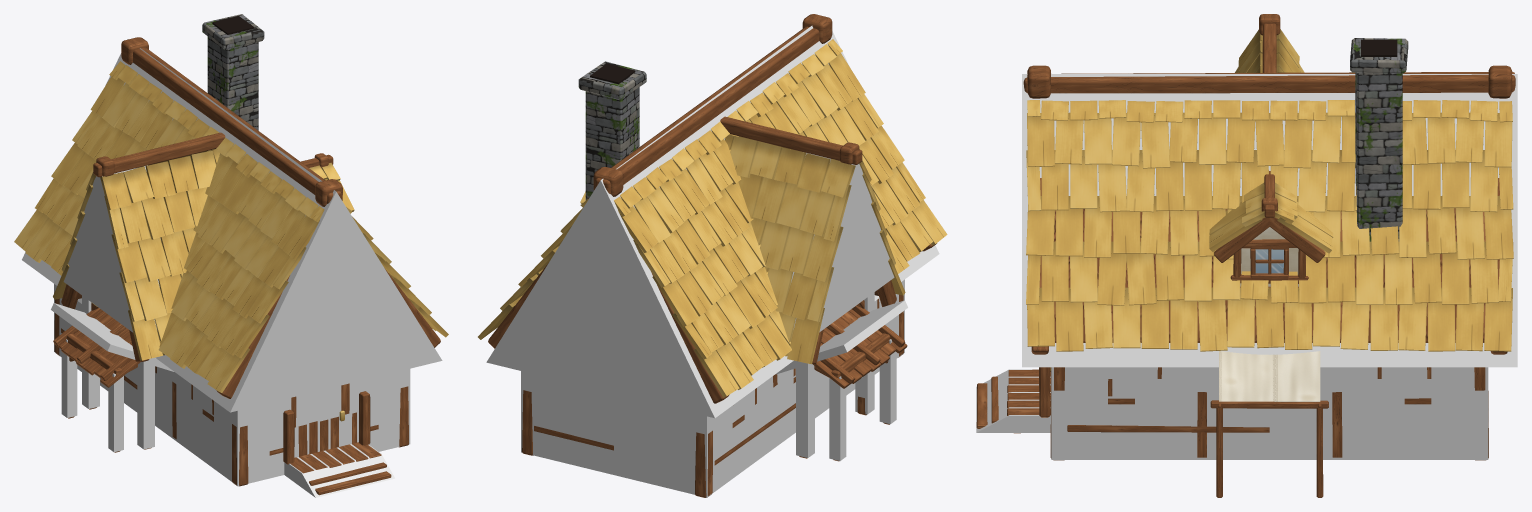
The model's file is SM_House_L.fbx.
3 views of the same model, side by side, from view 1: azimuth 30°, elevation 25°; view 2: azimuth 150°, elevation 25°; view 3: azimuth 270°, elevation 25° (orthographic). The views are drawn at different scales.
Visible parts, largest first — view 1: House_L_Roof, House_L_Col1, House_L_Col0, House_L_CrossGableRoof, House_L_Body, House_L_CrossGableCol2, House_L_Chimney, House_L_Porch, House_L_LeanTo, House_L_CrossGable, House_L_PorchCol0, House_L_LeanToCol2 (+4 smaller); view 2: House_L_Roof, House_L_Col1, House_L_Col0, House_L_CrossGableRoof, House_L_Body, House_L_CrossGableCol2, House_L_Chimney, House_L_LeanTo, House_L_CrossGable, House_L_LeanToCol2, House_L_CrossGableCol1, House_L_LeanToCol1 (+2 smaller); view 3: House_L_Roof, House_L_Col0, House_L_Col1, House_L_Body, House_L_Chimney, House_L_Awning, House_L_Dormer, House_L_DormerRoof, House_L_Porch, House_L_PorchCol0, House_L_CrossGableRoof, House_L_CrossGable.
Part boxes in pixels (box(x1,y1,x2,y2)): House_L_Roof: box(14, 61, 448, 392); House_L_Col1: box(22, 39, 442, 412); House_L_Col0: box(54, 284, 410, 486); House_L_CrossGableRoof: box(53, 149, 219, 360); House_L_Body: box(54, 37, 440, 486); House_L_CrossGableCol2: box(63, 165, 160, 332); House_L_Chimney: box(202, 14, 264, 130); House_L_Porch: box(283, 391, 391, 495); House_L_LeanTo: box(53, 307, 140, 452); House_L_CrossGable: box(61, 132, 225, 449); House_L_PorchCol0: box(284, 444, 394, 497); House_L_LeanToCol2: box(51, 303, 173, 371); House_L_Roof: box(478, 39, 947, 397); House_L_Col1: box(486, 16, 939, 418); House_L_Col0: box(521, 279, 904, 497); House_L_CrossGableRoof: box(725, 134, 905, 364); House_L_Body: box(488, 14, 936, 497); House_L_CrossGableCol2: box(791, 153, 894, 332); House_L_Chimney: box(578, 61, 646, 200); House_L_LeanTo: box(812, 305, 907, 461); House_L_CrossGable: box(720, 116, 896, 458); House_L_LeanToCol2: box(775, 300, 907, 374); House_L_CrossGableCol1: box(796, 361, 814, 457); House_L_LeanToCol1: box(829, 376, 846, 460); House_L_Roof: box(1026, 100, 1513, 351); House_L_Col0: box(1051, 367, 1488, 459); House_L_Col1: box(1022, 74, 1517, 367); House_L_Body: box(1023, 65, 1515, 460); House_L_Chimney: box(1350, 38, 1408, 241); House_L_Awning: box(1210, 351, 1328, 497); House_L_Dormer: box(1214, 171, 1325, 286); House_L_DormerRoof: box(1209, 182, 1333, 253); House_L_Porch: box(976, 367, 1050, 433); House_L_PorchCol0: box(976, 369, 1050, 432); House_L_CrossGableRoof: box(1235, 29, 1304, 72); House_L_CrossGable: box(1259, 14, 1280, 72).
Bounding box in the file's own units: 22.95 × 23.76 × 29.7.
